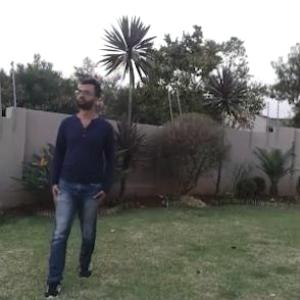follow: (39, 40, 120, 298)
